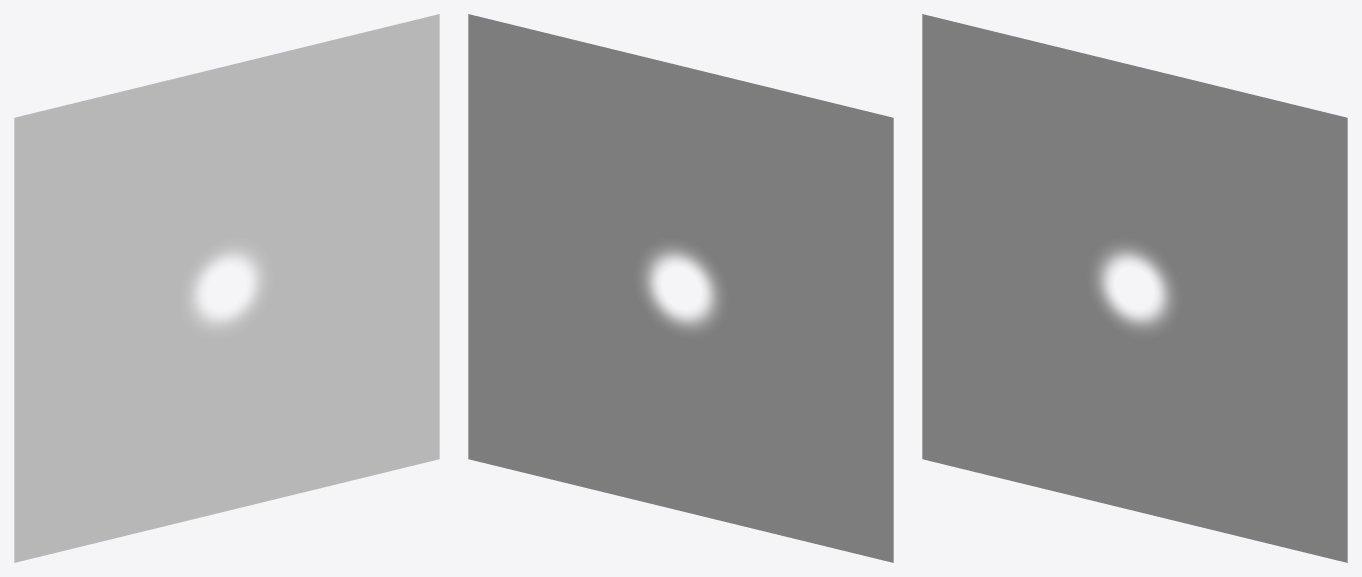
The model's file is Screen_01.glb.
The picture shows the model from 3 angles, left to right: view 1: azimuth 30°, elevation 25°; view 2: azimuth 150°, elevation 25°; view 3: azimuth 330°, elevation 25°; orthographic projection.
Visible parts, largest first — view 1: Screen_01; view 2: Screen_01; view 3: Screen_01.
Boxes of the visible parts, x1,y1,x2,y2 form: Screen_01: (14,14,439,562); Screen_01: (468,14,893,562); Screen_01: (922,14,1347,562).
Bounding box in the file's own units: 41.99 × 41.99 × 1.33e-13.
Materials: 1 (1 with a texture image).
